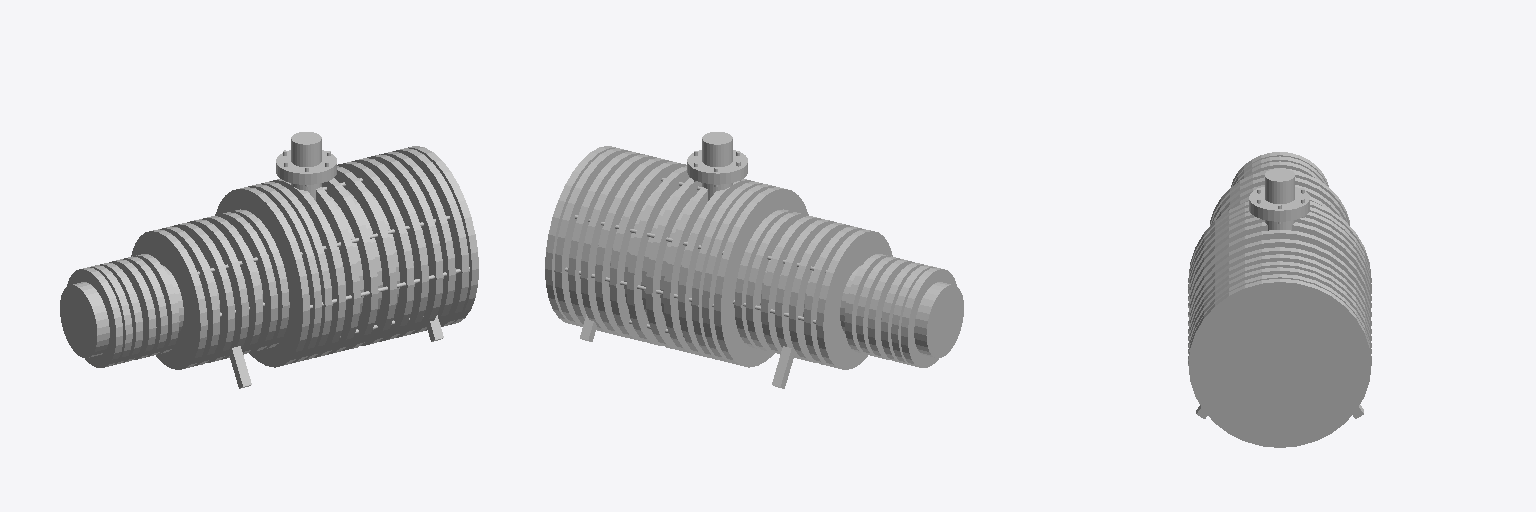
The model's file is Blower.obj.
The picture shows the model from 3 angles: view 1: azimuth 30°, elevation 25°; view 2: azimuth 150°, elevation 25°; view 3: azimuth 270°, elevation 25°; orthographic projection.
Parts seen in each view (by area): view 1: 柱体.194, 柱体.195, 柱体.192, 柱体.223, 柱体.222, 柱体.224, 柱体.225, 柱体.221, 柱体.227, 柱体.219, 柱体.220, 柱体.217 (+19 smaller); view 2: 柱体.194, 柱体.195, 柱体.192, 柱体.223, 柱体.222, 柱体.224, 柱体.225, 柱体.221, 柱体.227, 柱体.219, 柱体.220, 柱体.217 (+19 smaller); view 3: 柱体.189, 柱体.221, 柱体.222, 柱体.220, 柱体.223, 柱体.182, 柱体.224, 柱体.226, 柱体.225, 柱体.219, 柱体.181, 柱体.227 (+5 smaller).
Part boxes in pixels (bbox=[...]): 柱体.194: bbox=[215, 187, 309, 367]; 柱体.195: bbox=[131, 229, 207, 369]; 柱体.192: bbox=[60, 265, 183, 357]; 柱体.223: bbox=[337, 161, 414, 341]; 柱体.222: bbox=[334, 166, 396, 345]; 柱体.224: bbox=[352, 158, 428, 337]; 柱体.225: bbox=[367, 154, 443, 334]; 柱体.221: bbox=[322, 178, 378, 350]; 柱体.227: bbox=[393, 148, 469, 326]; 柱体.219: bbox=[270, 179, 345, 357]; 柱体.220: bbox=[316, 187, 360, 354]; 柱体.217: bbox=[248, 184, 321, 363]; 柱体.194: bbox=[714, 187, 808, 367]; 柱体.195: bbox=[816, 229, 892, 369]; 柱体.192: bbox=[840, 265, 963, 357]; 柱体.223: bbox=[609, 161, 686, 341]; 柱体.222: bbox=[627, 166, 689, 345]; 柱体.224: bbox=[595, 158, 671, 337]; 柱体.225: bbox=[580, 154, 656, 334]; 柱体.221: bbox=[645, 178, 701, 350]; 柱体.227: bbox=[554, 148, 630, 326]; 柱体.219: bbox=[678, 179, 753, 357]; 柱体.220: bbox=[663, 187, 707, 354]; 柱体.217: bbox=[702, 184, 775, 363]; 柱体.189: bbox=[1188, 279, 1371, 447]; 柱体.221: bbox=[1188, 230, 1371, 316]; 柱体.222: bbox=[1188, 239, 1371, 325]; 柱体.220: bbox=[1188, 222, 1371, 307]; 柱体.223: bbox=[1188, 247, 1371, 333]; 柱体.182: bbox=[1249, 187, 1309, 221]; 柱体.224: bbox=[1188, 254, 1371, 340]; 柱体.226: bbox=[1188, 267, 1371, 353]; 柱体.225: bbox=[1188, 261, 1371, 347]; 柱体.219: bbox=[1188, 217, 1371, 300]; 柱体.181: bbox=[1265, 169, 1294, 203]; 柱体.227: bbox=[1188, 274, 1371, 360].
Bounding box in the file's own units: 4.02 × 2.29 × 1.8.